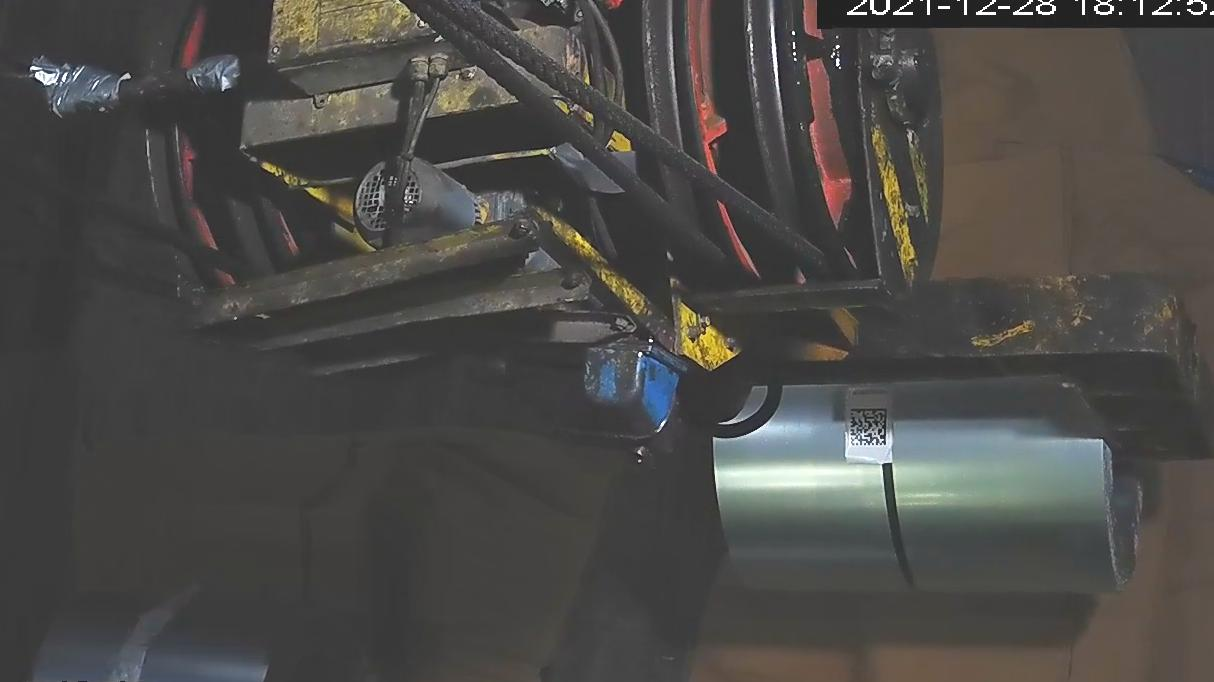data matrix: (848, 407, 890, 450)
